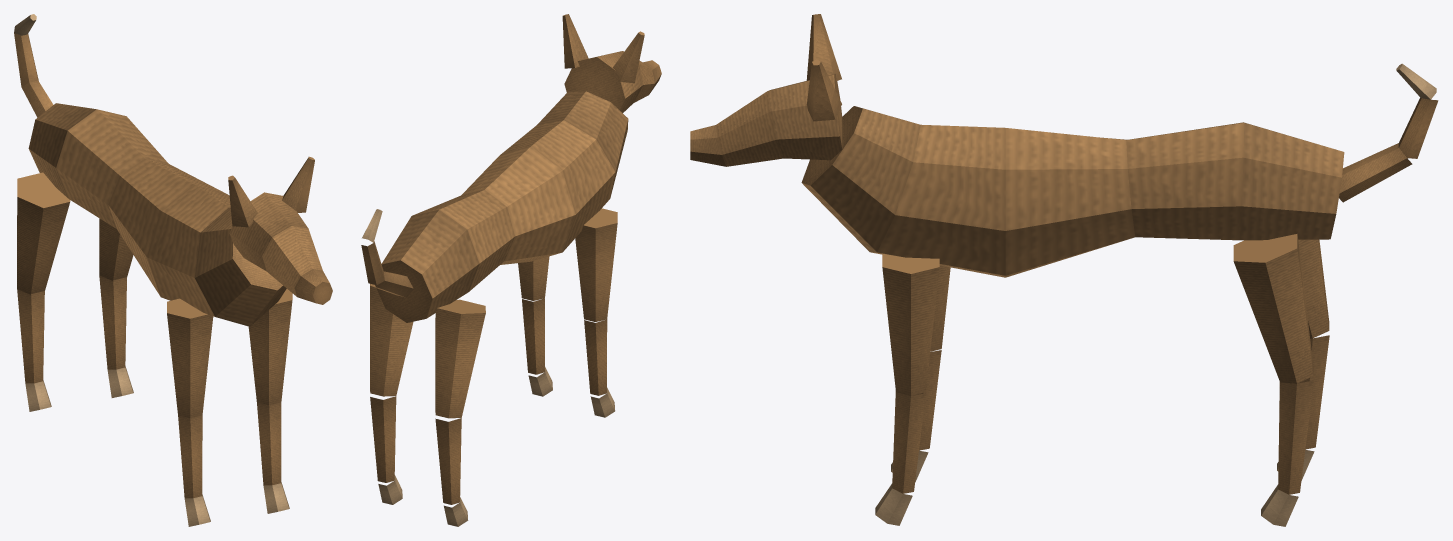
File: stray_dog.glb
The picture shows the model from 3 angles, left to right: view 1: azimuth 30°, elevation 25°; view 2: azimuth 150°, elevation 25°; view 3: azimuth 270°, elevation 25°; orthographic projection. The views are drawn at different scales.
Visible parts, largest first — view 1: stray_dog; view 2: stray_dog; view 3: stray_dog.
Boxes of the visible parts, x1,y1,x2,y2 form: stray_dog: (14,14,332,526); stray_dog: (361,14,661,526); stray_dog: (690,14,1438,526).
Size of the model in its own units: 0.232 by 0.6499 by 0.9497.
Materials: 1 (1 with a texture image).
